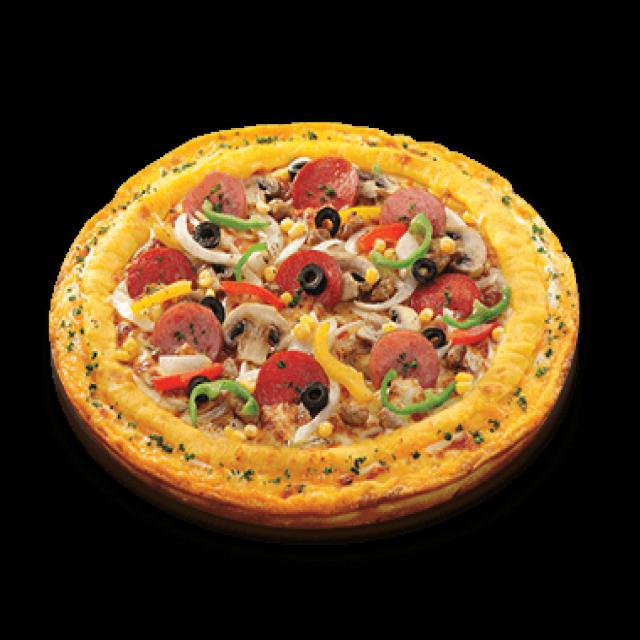Wet Waste: (44, 113, 584, 534)
